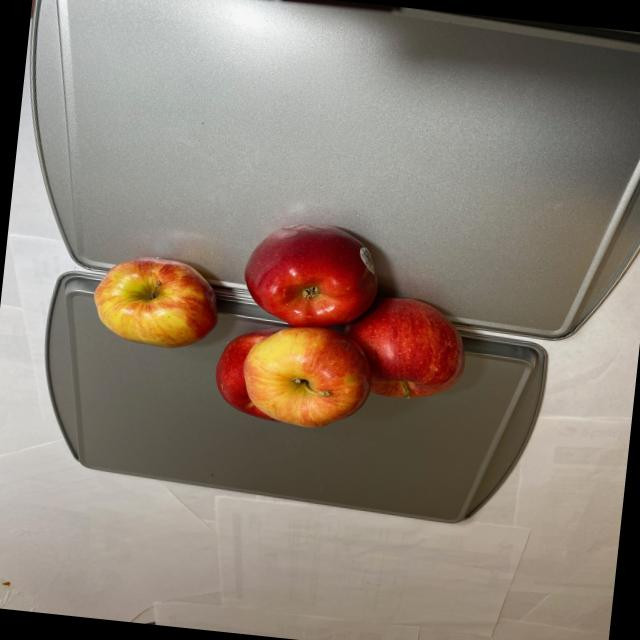apple: (85, 202, 482, 442)
